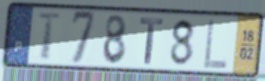7: (69, 8, 96, 67)
8: (102, 13, 129, 66), (169, 18, 197, 68)
L: (201, 17, 229, 71)
T: (35, 11, 64, 62), (138, 16, 165, 66)
